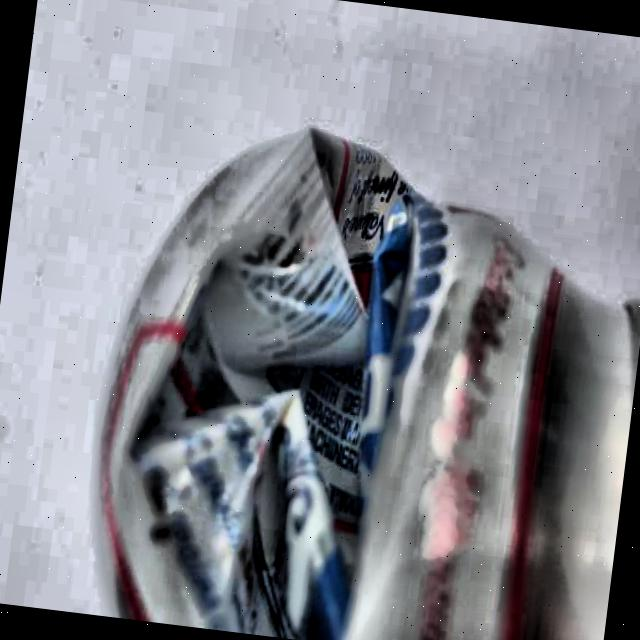metal: (75, 100, 640, 640)
